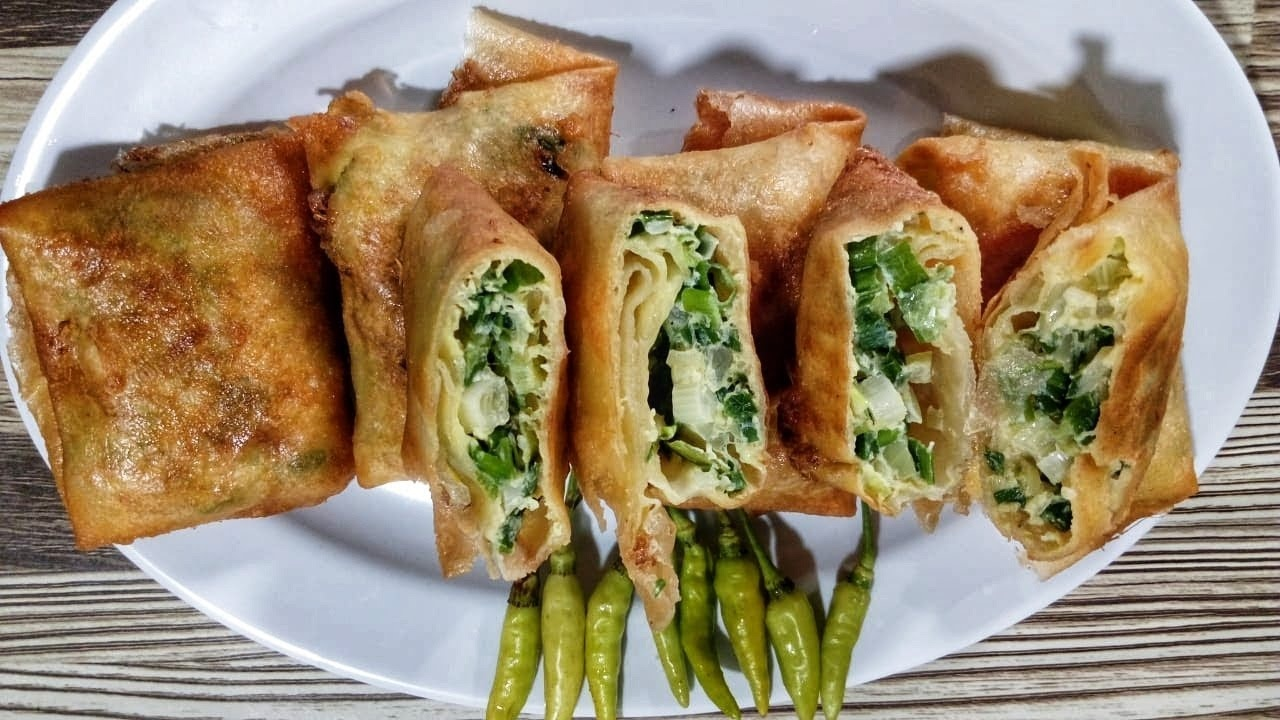martabak: (0, 42, 1199, 629)
